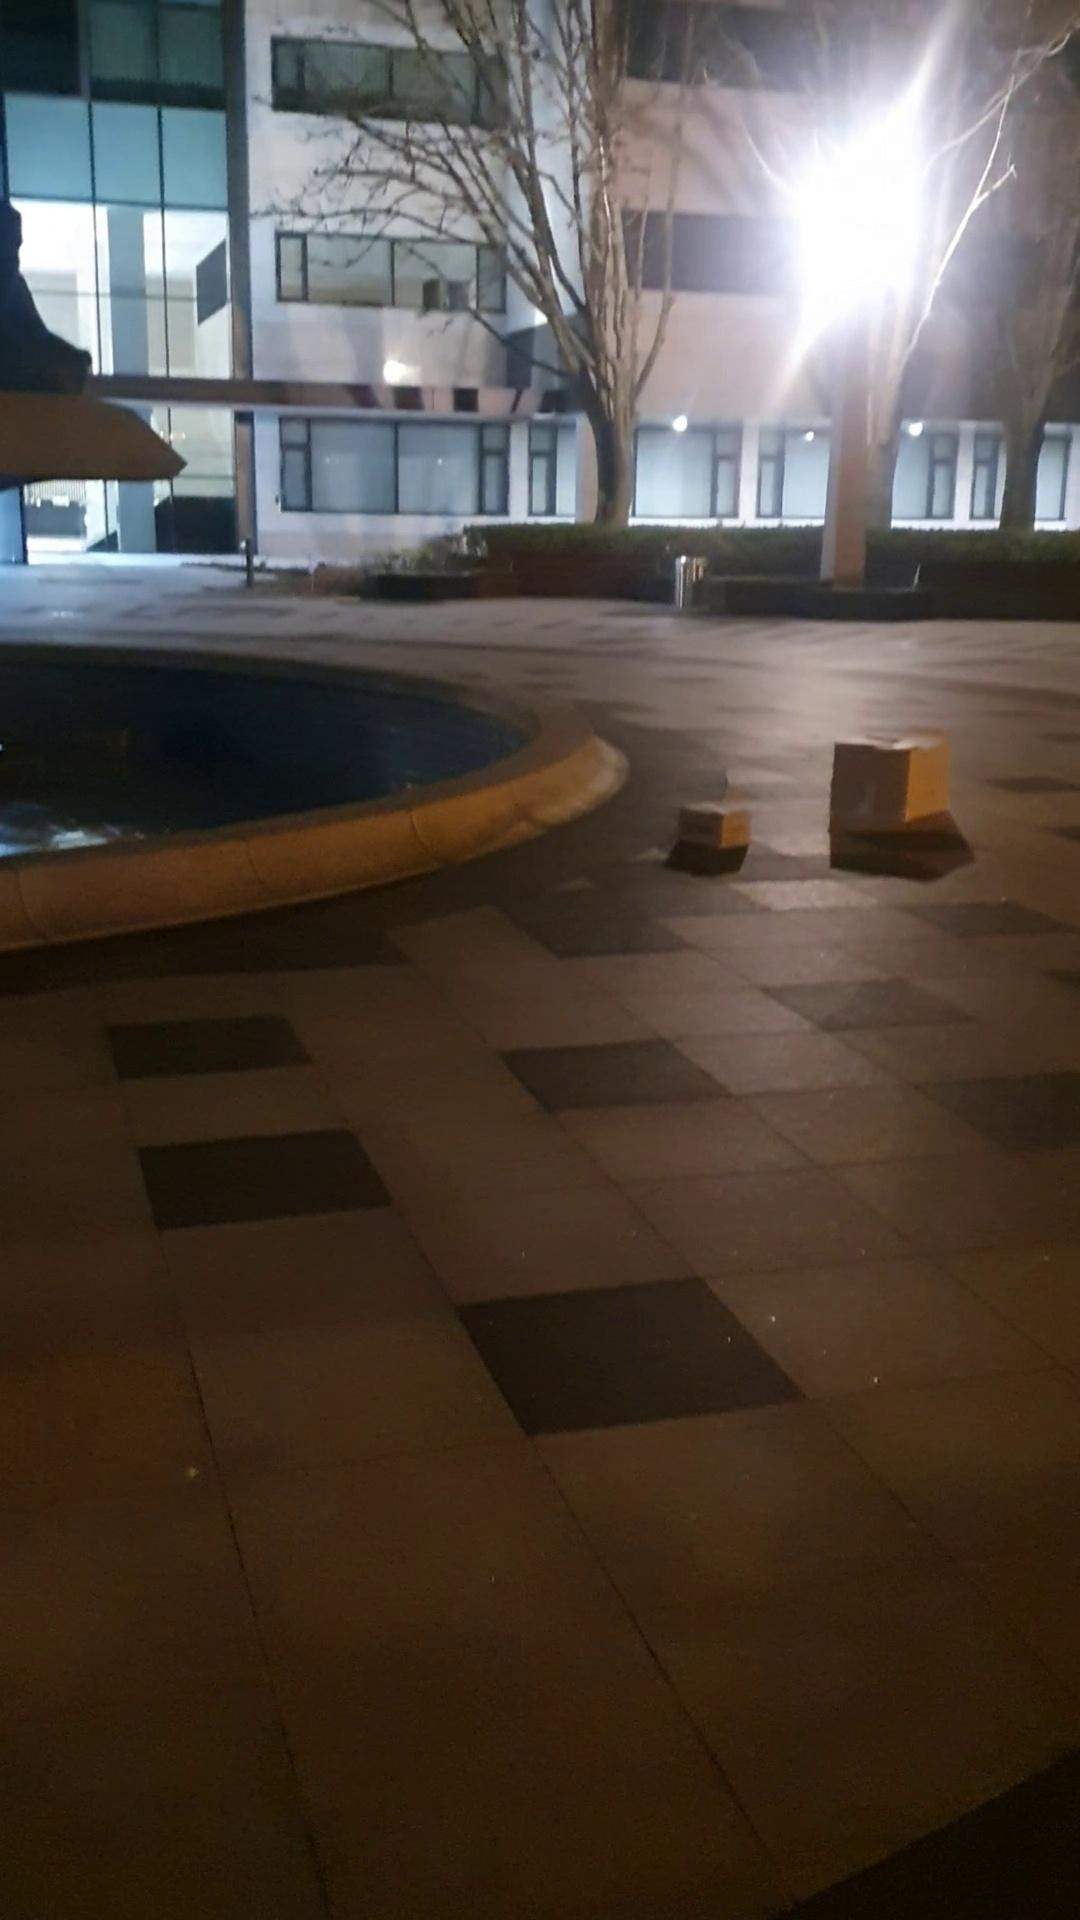Box: (818, 720, 947, 852), (669, 795, 757, 860)
